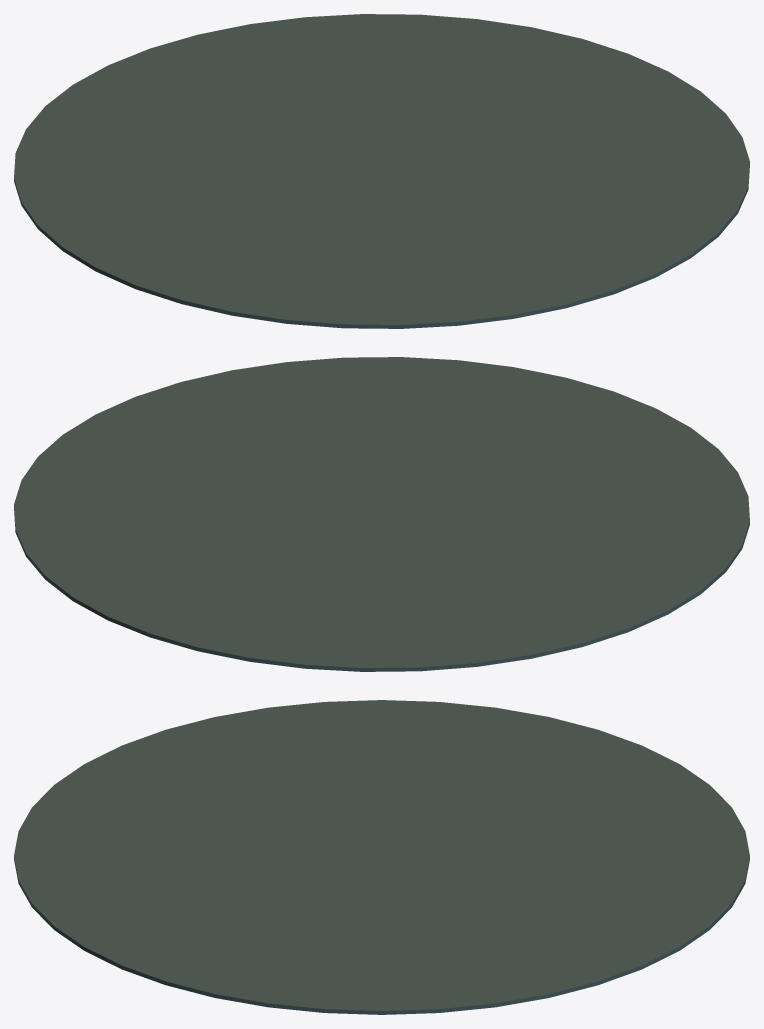
Rendered from Disc_Shield.fbx.
The picture shows the model from 3 angles, top to bottom: view 1: azimuth 30°, elevation 25°; view 2: azimuth 150°, elevation 25°; view 3: azimuth 270°, elevation 25°; orthographic projection.
Visible parts, largest first — view 1: Disc_Shield; view 2: Disc_Shield; view 3: Disc_Shield.
Boxes of the visible parts, x1,y1,x2,y2 form: Disc_Shield: (14, 14, 749, 328); Disc_Shield: (14, 357, 749, 671); Disc_Shield: (14, 700, 749, 1014).
Bounding box in the file's own units: 7.25 × 0.0424 × 7.25.
